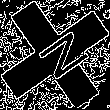N_SW: (23, 24, 87, 86)
